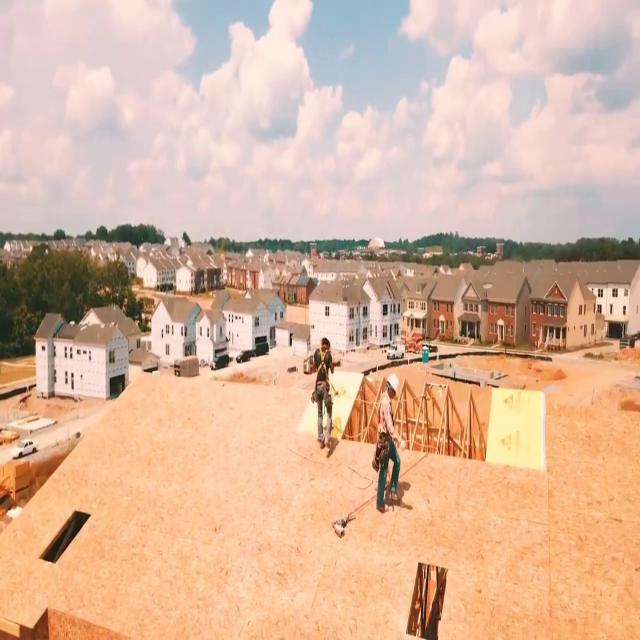Gloves: (401, 439, 406, 451)
Hard_hat: (387, 371, 400, 392), (321, 333, 332, 347)
Safety_boots: (374, 499, 388, 514), (388, 489, 402, 501), (325, 433, 332, 448), (319, 434, 325, 448)
